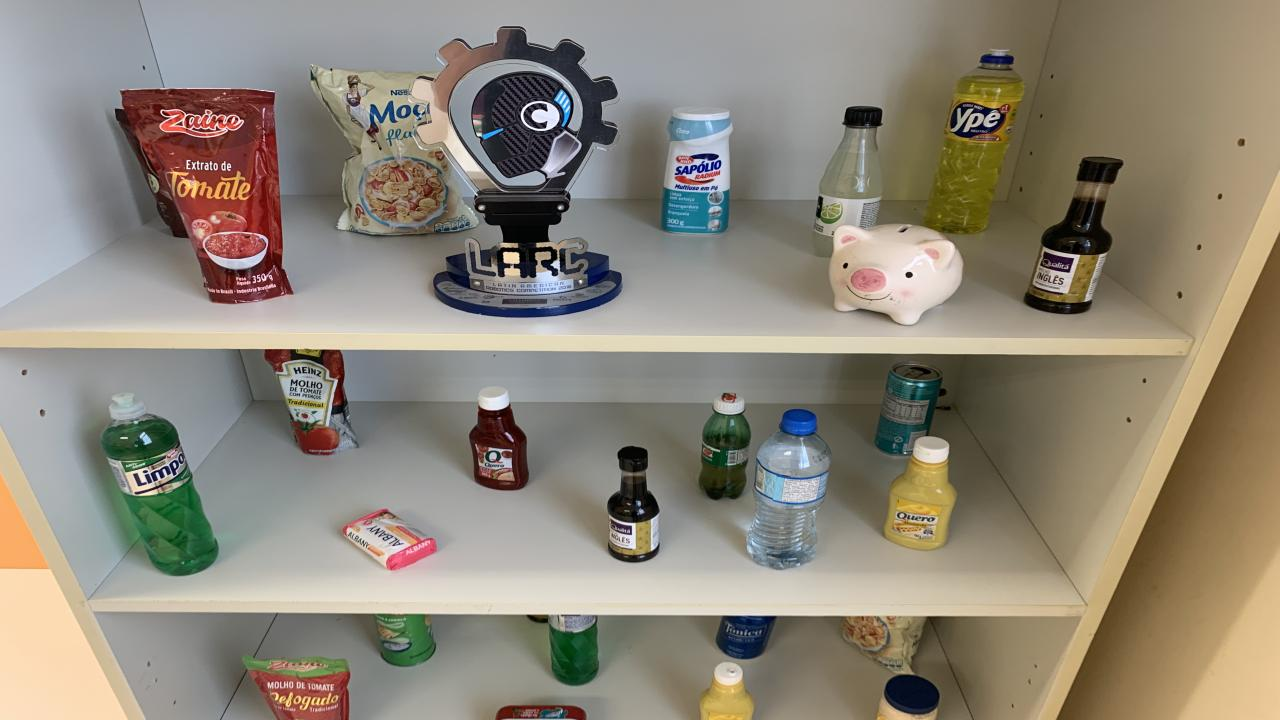Cleaner-Cleanup_Items: (660, 107, 732, 234)
Detergent-Cleanup_Items: (100, 392, 218, 576), (925, 49, 1025, 232), (548, 615, 600, 686)
English_Sauce-Pantry_Items: (1025, 158, 1122, 313), (608, 446, 660, 562)
Flakes-Snacks: (310, 66, 478, 234), (842, 615, 925, 675)
Guarana-Drinks: (700, 392, 750, 499)
Ketchup-Pantry_Items: (470, 386, 528, 489)
Mayonnaise-Pantry_Items: (878, 675, 940, 720)
Mustard-Pantry_Items: (885, 437, 958, 549), (700, 662, 755, 720)
Pringles-Snacks: (375, 613, 435, 666)
Soap-Cleanup_Items: (342, 510, 438, 570)
Soda-Drinks: (812, 107, 882, 257)
Tea-Drinks: (875, 362, 942, 456)
Tomato_Sauce-Pantry_Items: (120, 88, 292, 304), (265, 349, 358, 456), (242, 656, 350, 720)
Tonic-Drinks: (715, 615, 775, 658)
Trophy-Miscellaneous: (410, 26, 620, 317)
Tuna_Can-Pantry_Items: (495, 705, 588, 720), (555, 716, 560, 718)
Water_Bottle-Drinks: (748, 409, 830, 570)
